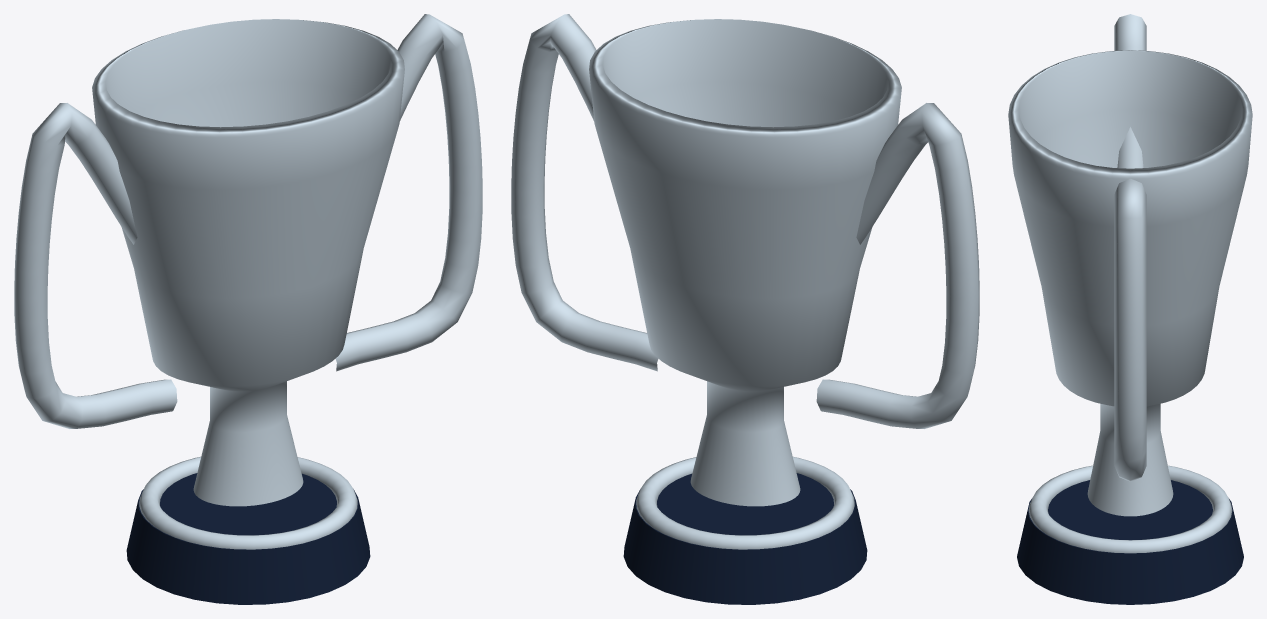
The model's file is blues-trophy-europe.glb.
The picture shows the model from 3 angles, left to right: view 1: azimuth 30°, elevation 25°; view 2: azimuth 150°, elevation 25°; view 3: azimuth 270°, elevation 25°; orthographic projection. The views are drawn at different scales.
Bounding box in the file's own units: 2.33 × 2.37 × 1.14.
